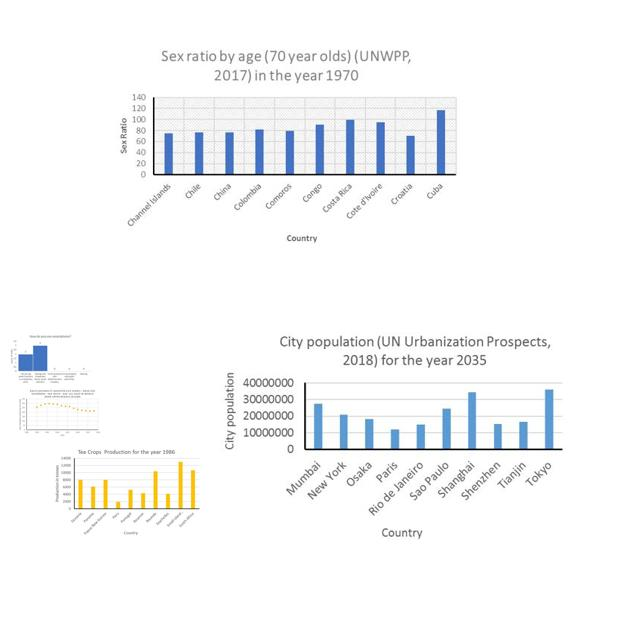Graph: (214, 326, 573, 546), (110, 43, 464, 250), (52, 447, 202, 536), (8, 333, 93, 384), (18, 388, 102, 438)
